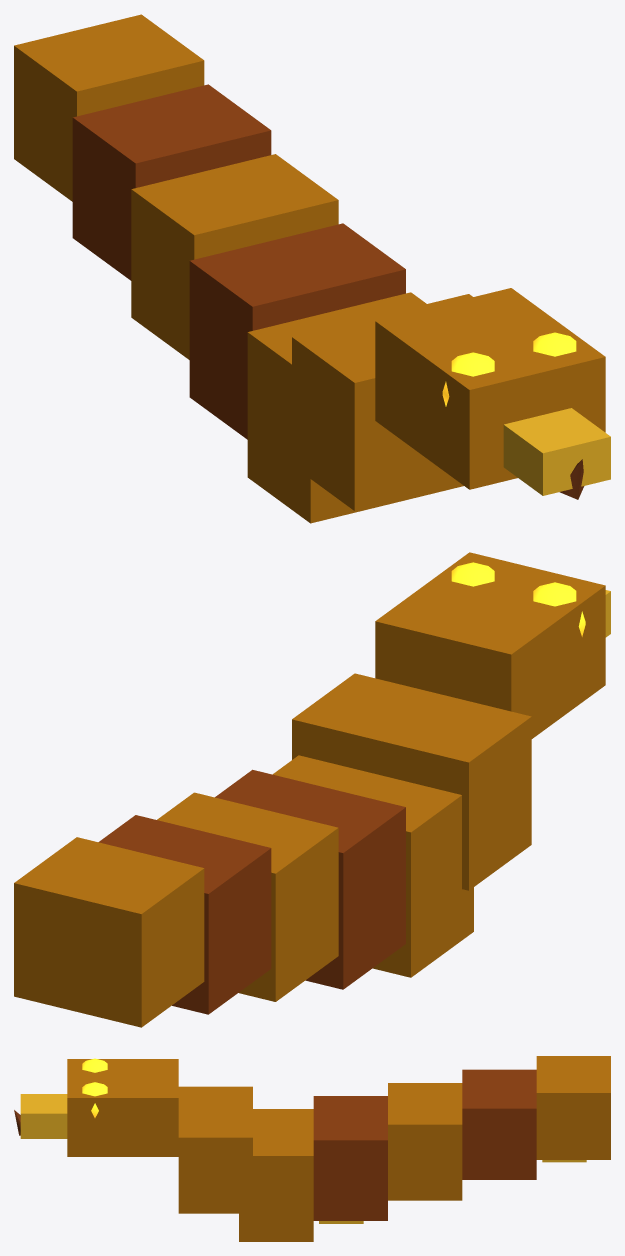
Rendered from MeerimSnakeA.glb.
3 views of the same model, one above another, from view 1: azimuth 30°, elevation 25°; view 2: azimuth 150°, elevation 25°; view 3: azimuth 270°, elevation 25° (orthographic). The views are drawn at different scales.
Visible parts, largest first — view 1: MeerimSnakeBody; view 2: MeerimSnakeBody; view 3: MeerimSnakeBody.
Boxes of the visible parts, x1,y1,x2,y2 form: MeerimSnakeBody: [14, 14, 610, 523]; MeerimSnakeBody: [14, 552, 610, 1027]; MeerimSnakeBody: [14, 1056, 610, 1241].
Bounding box in the file's own units: 0.26 × 0.347 × 1.28.
